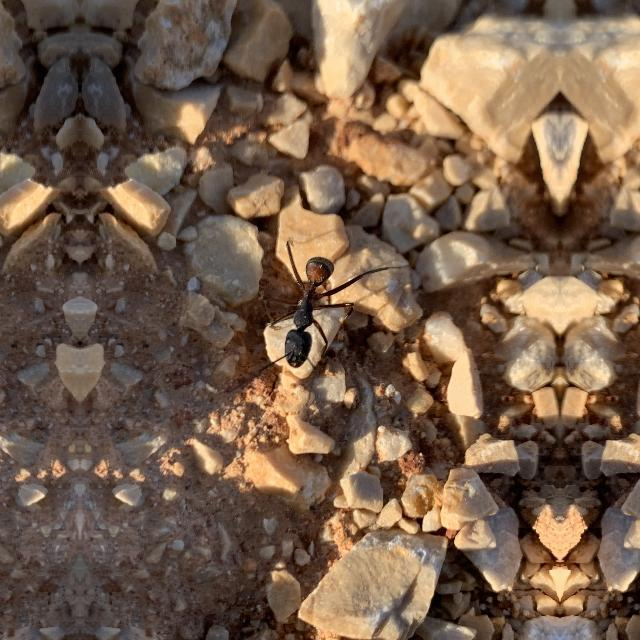Camponotus: (264, 231, 348, 381)
